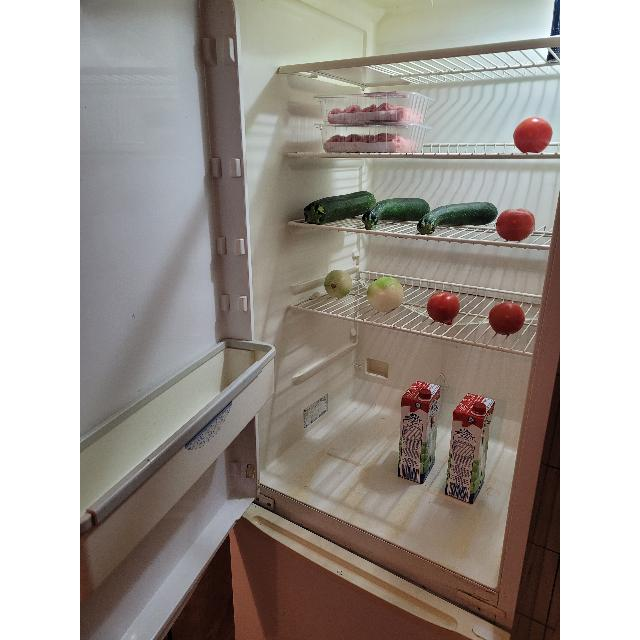meat: (328, 102, 424, 124), (324, 134, 418, 154)
milk: (452, 394, 496, 501), (398, 381, 440, 484)
onion: (366, 276, 404, 312), (324, 271, 352, 299)
tomato: (513, 116, 553, 154), (496, 208, 536, 242), (487, 301, 525, 335), (426, 290, 460, 324)
zucchini: (307, 192, 373, 222), (426, 202, 496, 230), (371, 198, 429, 228)
